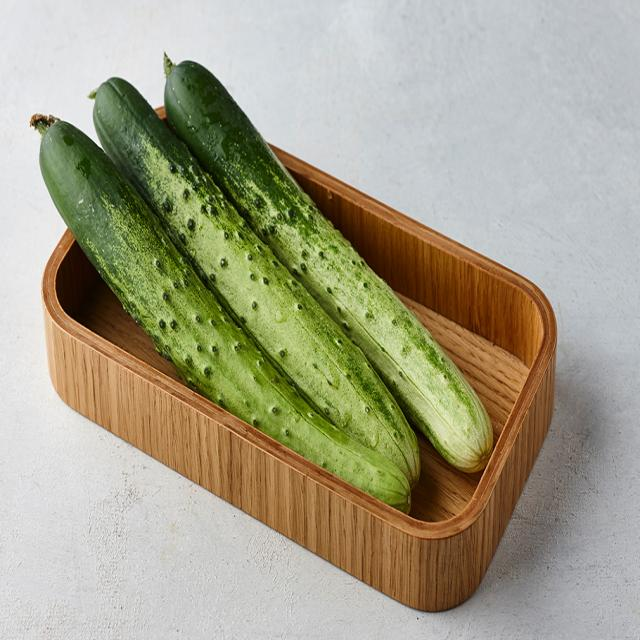cucumber: (19, 50, 505, 521)
